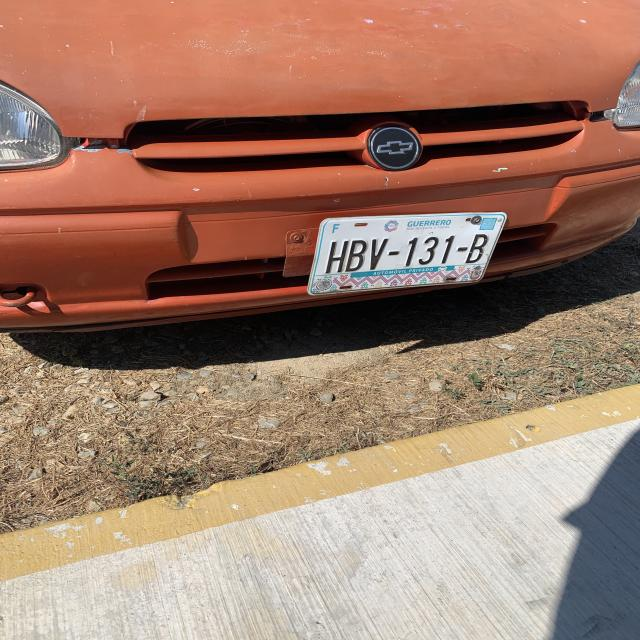placa: (317, 232, 491, 270)
